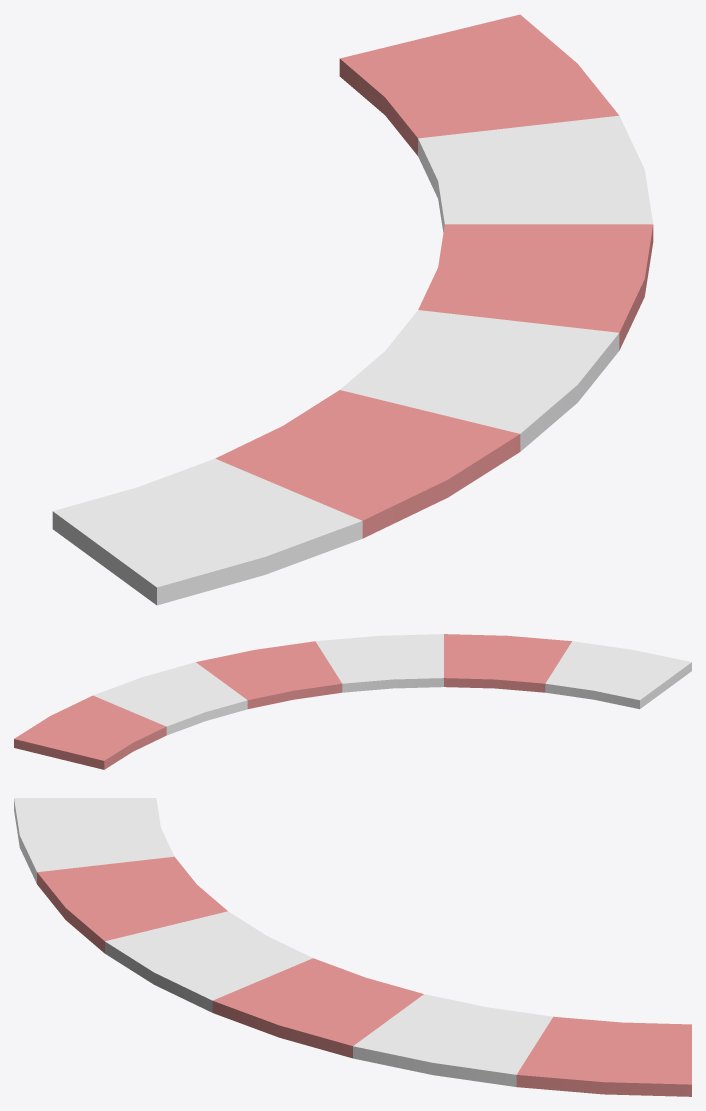
The model's file is roadCornerLargeBorderInner.gltf.
3 renders of one model, top to bottom at view 1: azimuth 30°, elevation 25°; view 2: azimuth 150°, elevation 25°; view 3: azimuth 270°, elevation 25°, orthographic. The views are drawn at different scales.
Visible parts, largest first — view 1: roadCornerLargeBorderInner; view 2: roadCornerLargeBorderInner; view 3: roadCornerLargeBorderInner.
Part boxes in pixels (left/top/right/bottom): roadCornerLargeBorderInner: left=52, top=14, right=653, bottom=605; roadCornerLargeBorderInner: left=14, top=634, right=691, bottom=769; roadCornerLargeBorderInner: left=14, top=798, right=691, bottom=1096.
Size of the model in its own units: 10 by 0.2 by 10.
